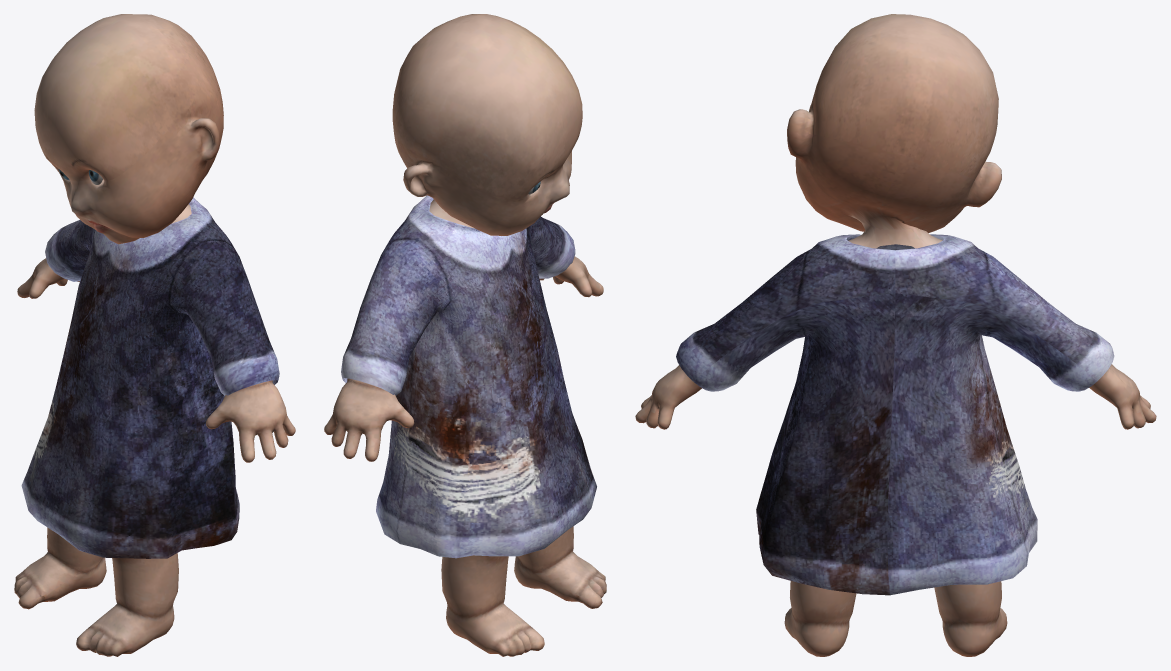
Rendered from SM_BabyDoll_4.fbx.
3 views of the same model, side by side, from view 1: azimuth 30°, elevation 25°; view 2: azimuth 150°, elevation 25°; view 3: azimuth 270°, elevation 25° (orthographic). The views are drawn at different scales.
Parts seen in each view (by area): view 1: SM_BabyDoll_4; view 2: SM_BabyDoll_4; view 3: SM_BabyDoll_4.
Boxes of the visible parts, <box> form: SM_BabyDoll_4: <box>14,14,295,656</box>; SM_BabyDoll_4: <box>324,14,606,656</box>; SM_BabyDoll_4: <box>635,14,1156,656</box>.
Bounding box in the file's own units: 7.31 × 17.88 × 24.39.
Materials: 2 (2 with a texture image).
